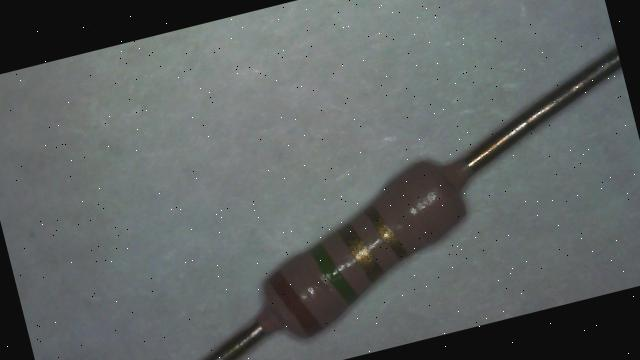brown: (266, 264, 322, 342)
gold: (338, 219, 384, 286), (364, 200, 408, 264)
green: (311, 238, 358, 308)
resistor: (223, 128, 507, 360)
